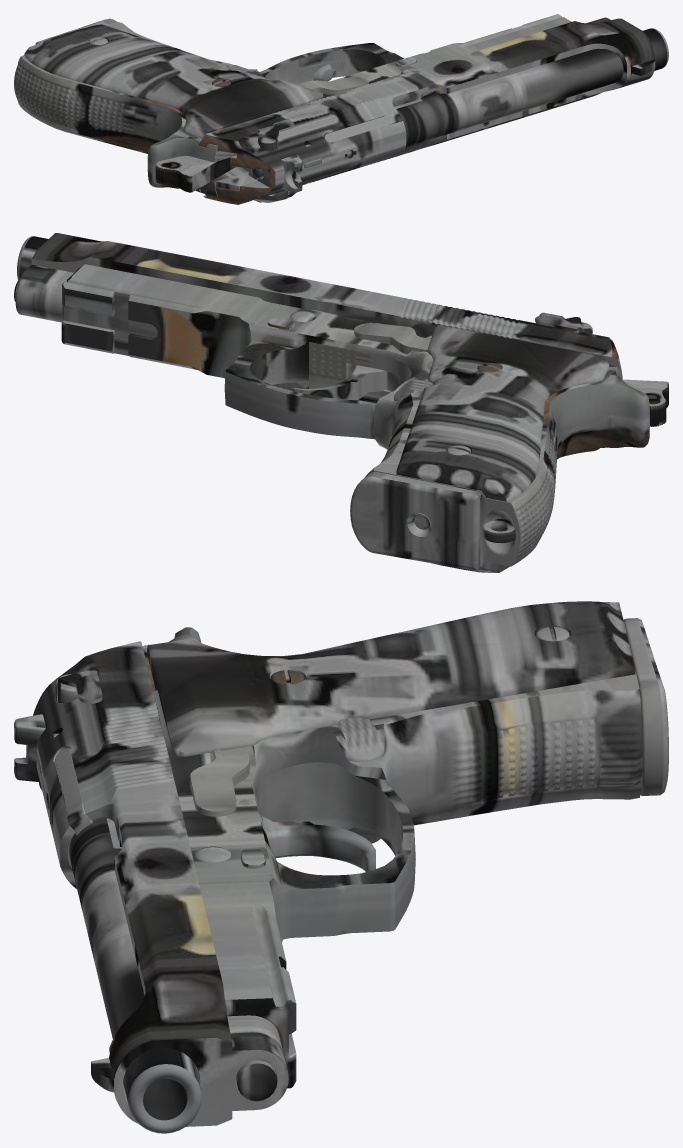
The model's file is w_elite.glb.
3 renders of one model, top to bottom at view 1: azimuth 30°, elevation 25°; view 2: azimuth 150°, elevation 25°; view 3: azimuth 270°, elevation 25°, orthographic. The views are drawn at different scales.
Visible parts, largest first — view 1: w_elite; view 2: w_elite; view 3: w_elite.
Part boxes in pixels (box(x1,y1,x2,y2)): w_elite: box(14, 14, 668, 204); w_elite: box(14, 233, 668, 572); w_elite: box(14, 601, 668, 1133).
Size of the model in its own units: 0.338 by 0.0522 by 0.204.
Materials: 1 (1 with a texture image).
